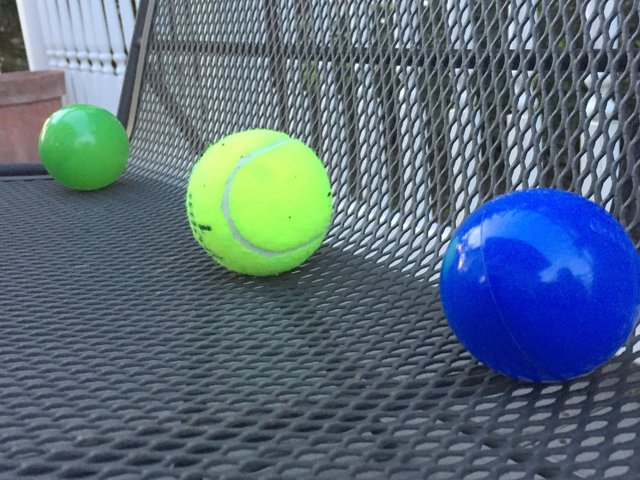Ball: (441, 187, 638, 383)
